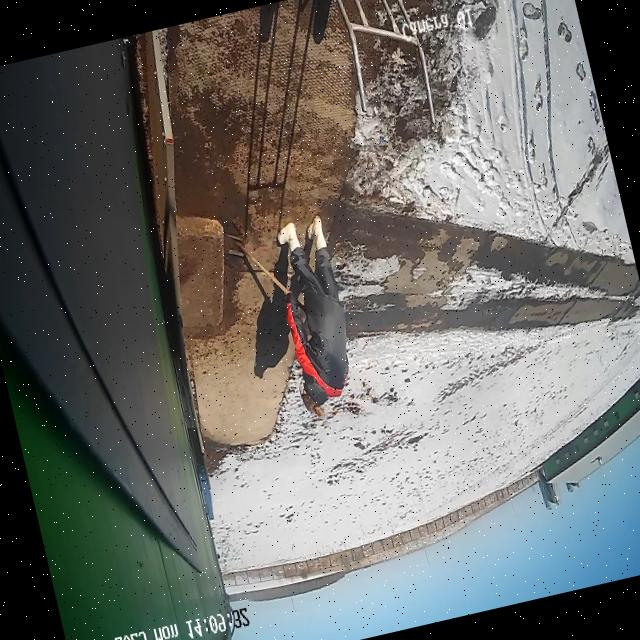Red uniform: (259, 210, 369, 421)
